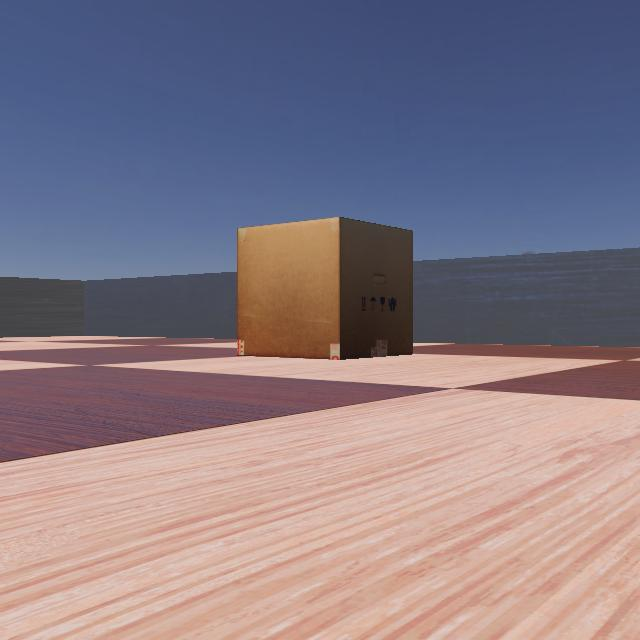cardboard-box: (227, 216, 428, 360)
